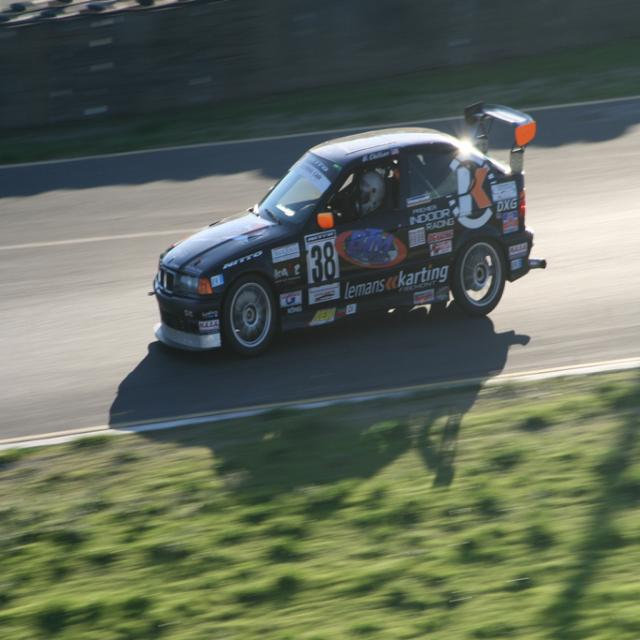car: (150, 104, 551, 366)
